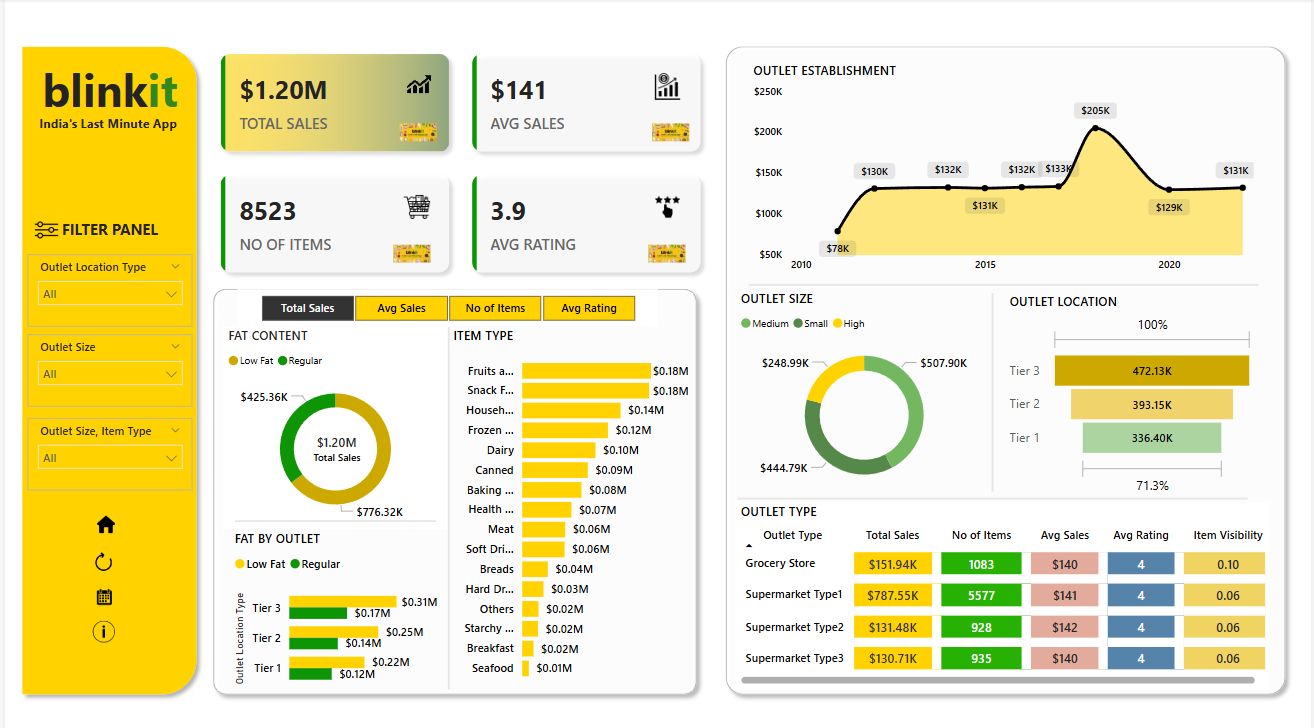

Layout of this report page (visuals, bound fields, positions):
{"tool":"powerbi","page":{"name":"Page 1","canvas":[1400,800],"ordinal":0},"visuals":[{"type":"textbox","box":[10,290,280,280],"z":0},{"type":"shape","box":[9.4,42.9,205.1,713.1],"z":1000},{"type":"textbox","box":[29.5,60.3,166.2,77.7],"z":2000},{"type":"textbox","box":[20.1,120.6,181,36.2],"z":3000},{"type":"cardVisual","fields":{"Data":["BlinkIT Grocery Data.Total Sales","BlinkIT Grocery Data.Avg Sales","BlinkIT Grocery Data.No of Items","BlinkIT Grocery Data.Avg Rating"]},"box":[214.5,42.9,549.6,269.4],"z":4000},{"type":"shape","box":[214.5,303,536.2,453.1],"z":5000},{"type":"donutChart","title":"FAT CONTENT","fields":{"Y":["BlinkIT Grocery Data.Total Sales"],"Category":["BlinkIT Grocery Data.Item Fat Content"]},"box":[234.6,352.5,239.9,217.2],"z":6000},{"type":"slicer","fields":{"Values":["Metrics.Metrics"]},"box":[249.3,312.3,450.4,40.2],"z":7000},{"type":"clusteredBarChart","title":"FAT BY OUTLET ","fields":{"Y":["BlinkIT Grocery Data.Total Sales"],"Category":["BlinkIT Grocery Data.Outlet Location Type"],"Series":["BlinkIT Grocery Data.Item Fat Content"]},"box":[241.3,569.7,227.9,181],"z":8000},{"type":"shape","box":[246.7,552.3,215.8,17.4],"z":9000},{"type":"shape","box":[462.5,352.5,26.8,388.7],"z":10000},{"type":"barChart","title":"ITEM TYPE","fields":{"Y":["BlinkIT Grocery Data.Total Sales"],"Category":["BlinkIT Grocery Data.Item Type"]},"box":[475.9,352.5,262.7,388.7],"z":11000},{"type":"cardVisual","fields":{"Data":["BlinkIT Grocery Data.Total Sales"]},"box":[312.3,450.4,87.1,60.3],"z":12000},{"type":"shape","box":[764.1,42.9,618,713.1],"z":13000},{"type":"lineChart","title":"OUTLET ESTABLISHMENT ","fields":{"Y":["BlinkIT Grocery Data.Total Sales"],"Category":["BlinkIT Grocery Data.Outlet Establishment Year"]},"box":[797.6,68.4,546.9,234.6],"z":14000},{"type":"shape","box":[797.6,303,546.9,9.4],"z":15000},{"type":"donutChart","title":"OUTLET SIZE","fields":{"Y":["BlinkIT Grocery Data.Total Sales"],"Category":["BlinkIT Grocery Data.Outlet Size"]},"box":[784.2,312.3,274.8,225.2],"z":16000},{"type":"shape","box":[1045.6,316.4,26.8,213.1],"z":17000},{"type":"funnel","title":" OUTLET LOCATION","fields":{"Category":["BlinkIT Grocery Data.Outlet Location Type"],"Y":["Sum(BlinkIT Grocery Data.Sales)"]},"box":[1072.4,316.4,272.1,221.2],"z":18000},{"type":"shape","box":[785.5,532.2,546.9,9.4],"z":19000},{"type":"pivotTable","title":"OUTLET TYPE","fields":{"Rows":["BlinkIT Grocery Data.Outlet Type"],"Values":["BlinkIT Grocery Data.Total Sales","BlinkIT Grocery Data.No of Items","BlinkIT Grocery Data.Avg Sales","BlinkIT Grocery Data.Avg Rating","Avg(BlinkIT Grocery Data.Item Visibility)"]},"box":[784.2,541.6,572.4,199.7],"z":20000},{"type":"slicer","fields":{"Values":["BlinkIT Grocery Data.Outlet Location Type"]},"box":[24.1,274.8,176.9,77.7],"z":21000},{"type":"slicer","fields":{"Values":["BlinkIT Grocery Data.Outlet Size"]},"box":[24.1,360.6,176.9,77.7],"z":22000},{"type":"slicer","fields":{"Values":["BlinkIT Grocery Data.Outlet Size","BlinkIT Grocery Data.Item Type"]},"box":[24.1,450.4,176.9,77.7],"z":23000},{"type":"textbox","box":[29.5,231.9,166.2,32.2],"z":24000},{"type":"image","box":[24.4,200.6,40.7,94.9],"z":25000},{"type":"image","box":[80,542.2,55.6,46.1],"z":26000},{"type":"image","box":[85.4,588.3,39.3,32.5],"z":27000},{"type":"image","box":[77.3,620.8,58.3,43.4],"z":28000},{"type":"image","box":[88.1,660.1,35.2,39.3],"z":29000},{"type":"image","box":[412.1,245.4,50.2,56.9],"z":30000},{"type":"image","box":[684.5,245.4,50.2,56.9],"z":31000},{"type":"image","box":[418.9,115.2,50.2,56.9],"z":32000},{"type":"image","box":[688.6,115.2,50.2,56.9],"z":33000}]}

Visuals, with their boxes on the page's 1400x800 design canvas (x1, y1, x2, y2). These are canvas units, not pixel positions in the 1314x728 screenshot, which may show the page scaled, cropped or inside an application window:
textbox: region(10, 290, 290, 570)
shape: region(9, 43, 214, 756)
textbox: region(30, 60, 196, 138)
textbox: region(20, 121, 201, 157)
cardVisual - BlinkIT Grocery Data.Total Sales x BlinkIT Grocery Data.Avg Sales: region(214, 43, 764, 312)
shape: region(214, 303, 751, 756)
"FAT CONTENT" donutChart: region(235, 352, 474, 570)
slicer - Metrics.Metrics: region(249, 312, 700, 352)
"FAT BY OUTLET " clusteredBarChart: region(241, 570, 469, 751)
shape: region(247, 552, 462, 570)
shape: region(462, 352, 489, 741)
"ITEM TYPE" barChart: region(476, 352, 739, 741)
cardVisual - BlinkIT Grocery Data.Total Sales: region(312, 450, 399, 511)
shape: region(764, 43, 1382, 756)
"OUTLET ESTABLISHMENT " lineChart: region(798, 68, 1344, 303)
shape: region(798, 303, 1344, 312)
"OUTLET SIZE" donutChart: region(784, 312, 1059, 538)
shape: region(1046, 316, 1072, 530)
" OUTLET LOCATION" funnel: region(1072, 316, 1344, 538)
shape: region(786, 532, 1332, 542)
"OUTLET TYPE" pivotTable: region(784, 542, 1357, 741)
slicer - BlinkIT Grocery Data.Outlet Location Type: region(24, 275, 201, 352)
slicer - BlinkIT Grocery Data.Outlet Size: region(24, 361, 201, 438)
slicer - BlinkIT Grocery Data.Outlet Size x BlinkIT Grocery Data.Item Type: region(24, 450, 201, 528)
textbox: region(30, 232, 196, 264)
image: region(24, 201, 65, 296)
image: region(80, 542, 136, 588)
image: region(85, 588, 125, 621)
image: region(77, 621, 136, 664)
image: region(88, 660, 123, 699)
image: region(412, 245, 462, 302)
image: region(684, 245, 735, 302)
image: region(419, 115, 469, 172)
image: region(689, 115, 739, 172)
